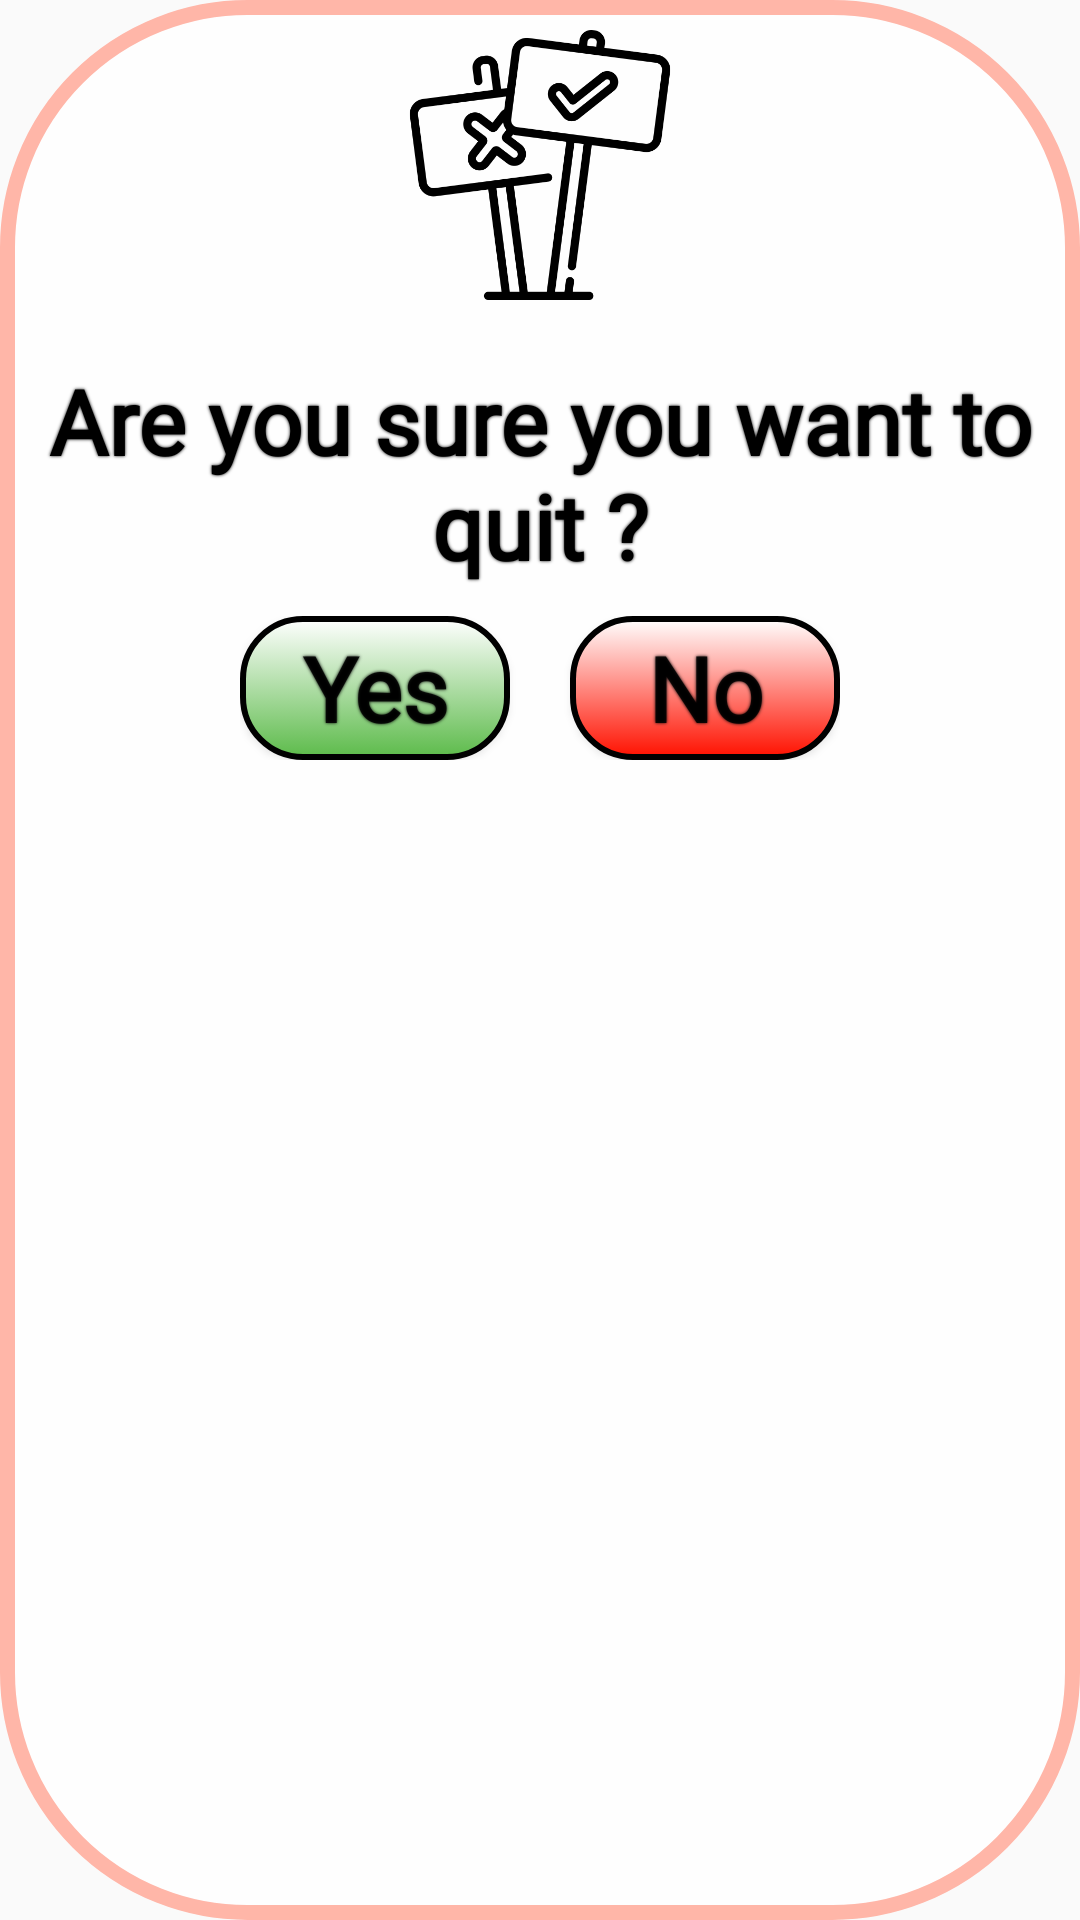

Icon bounding boxes for this 1080px x 1920px phone screenshot, format box=[x1, y1, x2, y2]:
vote: box=[410, 30, 670, 300]
